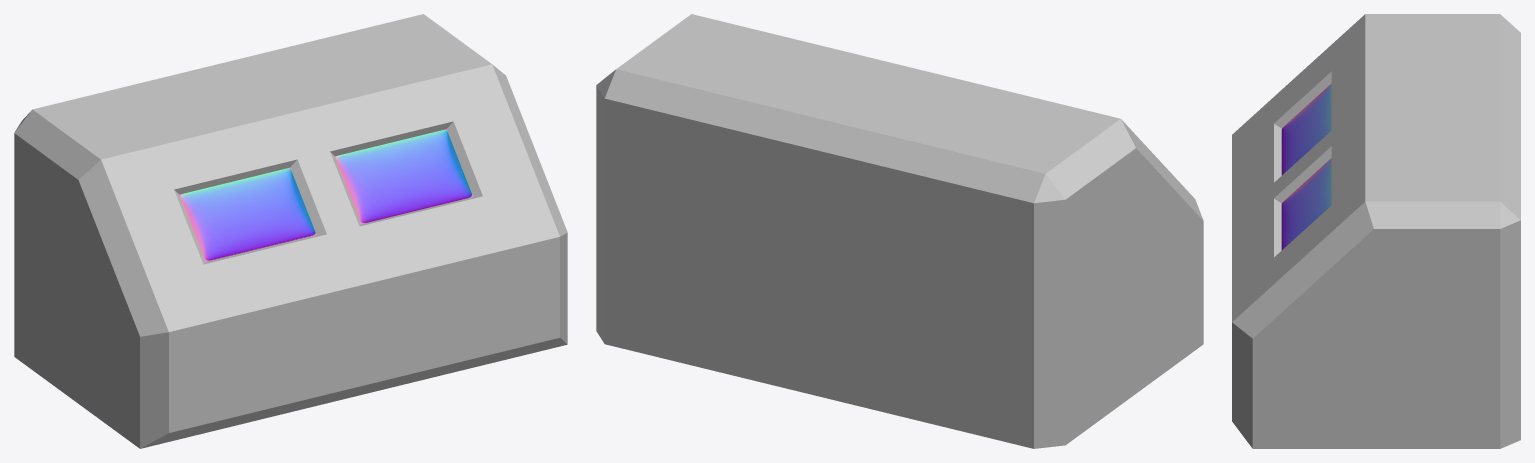
Rendered from panelA.FBX.
3 views of the same model, side by side, from view 1: azimuth 30°, elevation 25°; view 2: azimuth 150°, elevation 25°; view 3: azimuth 270°, elevation 25° (orthographic). The views are drawn at different scales.
Visible parts, largest first — view 1: panel; view 2: panel; view 3: panel.
Boxes of the visible parts, <box> form: panel: <box>14,14,567,448</box>; panel: <box>596,14,1203,448</box>; panel: <box>1232,14,1520,448</box>.
Size of the model in its own units: 9.03 by 4.9 by 5.38.
